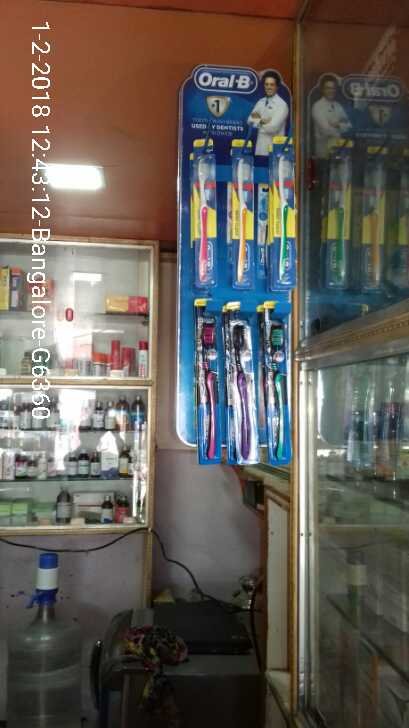oralb: (224, 302, 262, 463), (263, 299, 294, 461), (192, 297, 222, 464), (269, 137, 300, 287), (192, 138, 217, 284), (230, 135, 254, 284)
